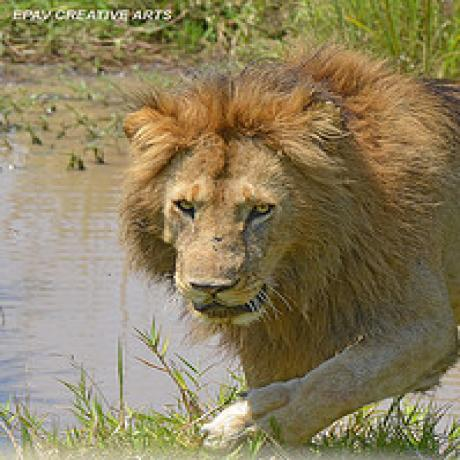Lion: (118, 44, 460, 458)
